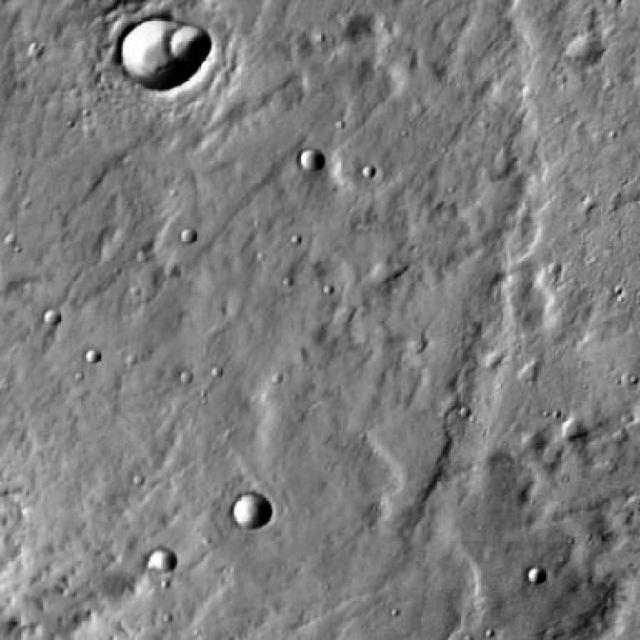crater: (110, 8, 192, 82), (162, 17, 204, 55), (228, 492, 268, 528), (562, 32, 598, 63), (295, 145, 322, 170), (150, 546, 176, 571), (180, 228, 198, 243), (40, 310, 57, 325)
